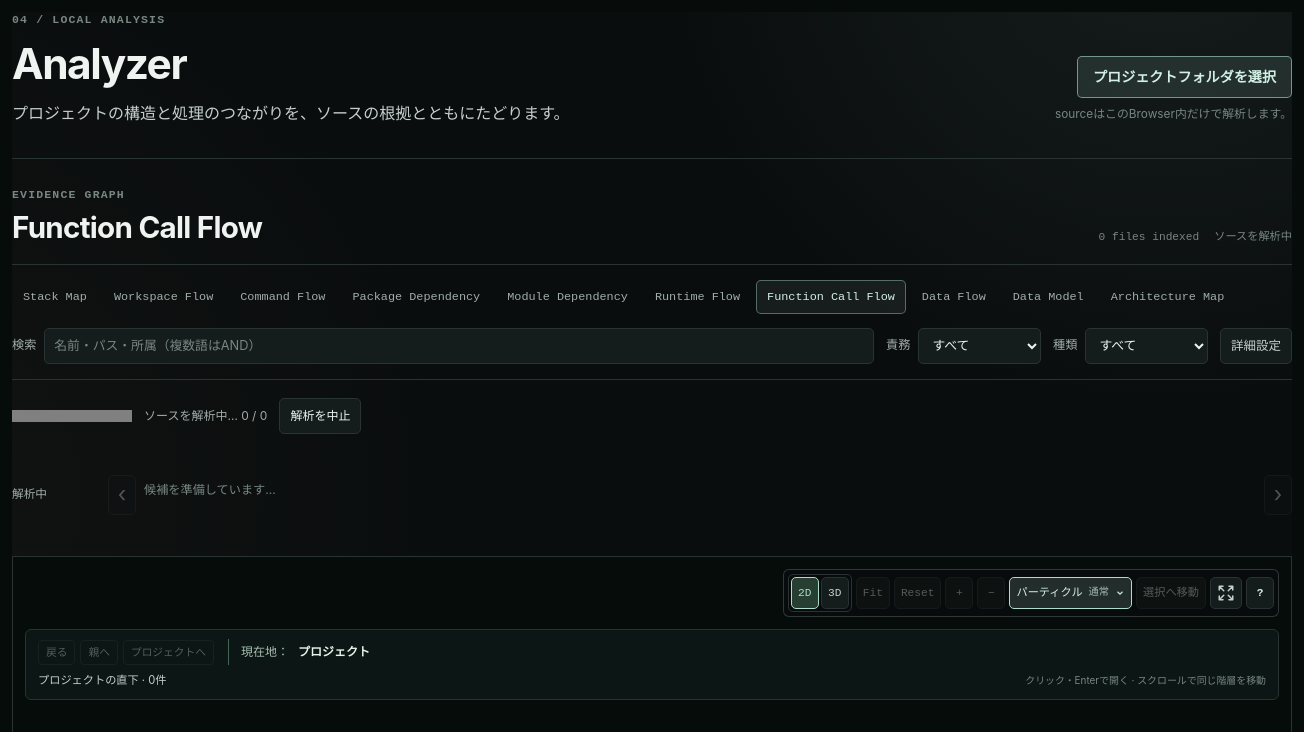
Test: semantic Analyzer exploration › keeps loading distinct from an empty graph and below the control overlays
Click the link to "/analyzer/architecture-map" at [1168, 297], box [1111, 290, 1224, 304]
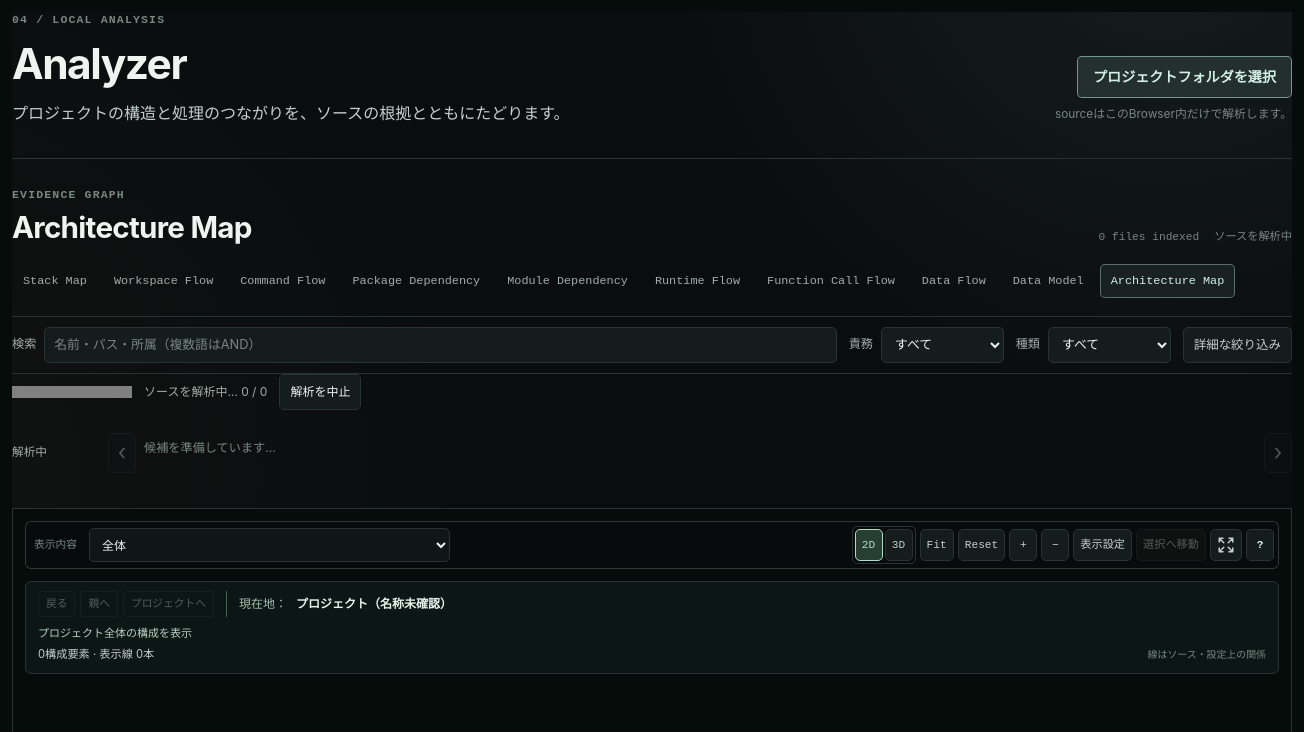
Expected: the dropdown named "表示内容" is shown, [89, 528, 450, 562]
